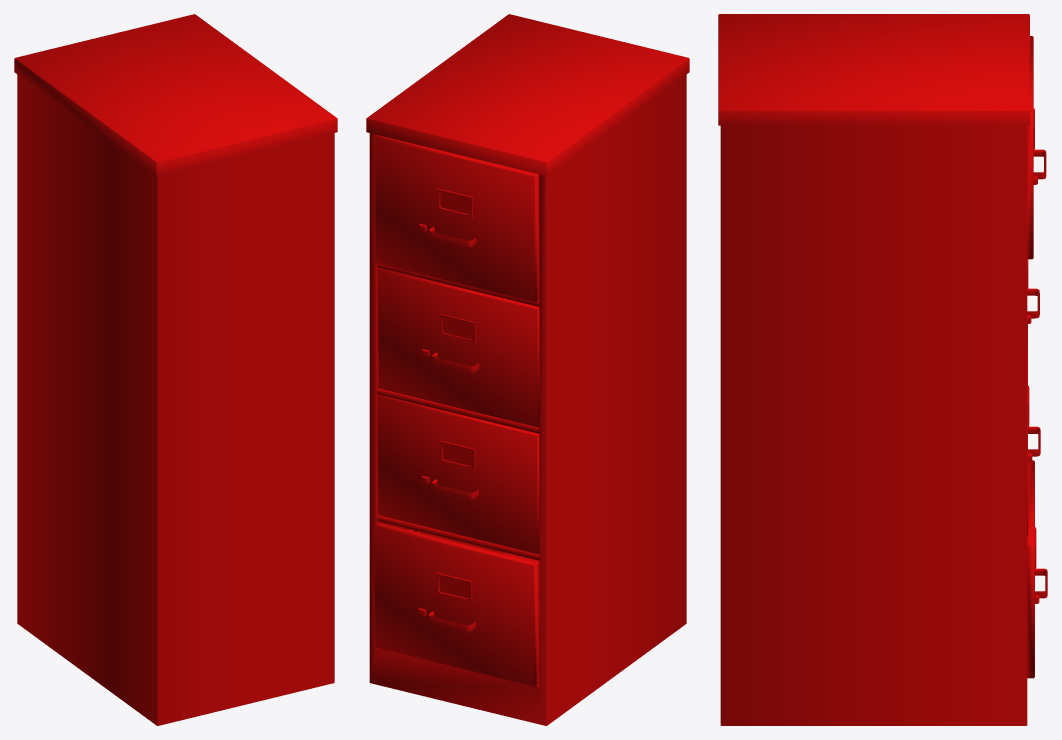
File: Attic_FilingCabinet_02_LP.glb
The picture shows the model from 3 angles, left to right: view 1: azimuth 30°, elevation 25°; view 2: azimuth 150°, elevation 25°; view 3: azimuth 270°, elevation 25°; orthographic projection. The views are drawn at different scales.
Visible parts, largest first — view 1: Attic_FilingCabinet_02_LP; view 2: Attic_FilingCabinet_02_LP; view 3: Attic_FilingCabinet_02_LP.
Part boxes in pixels (x1=…): Attic_FilingCabinet_02_LP: x1=14, y1=14, x2=337, y2=725; Attic_FilingCabinet_02_LP: x1=366, y1=14, x2=689, y2=725; Attic_FilingCabinet_02_LP: x1=718, y1=14, x2=1047, y2=725.
Size of the model in its own units: 0.5321 by 1.58 by 0.767.
